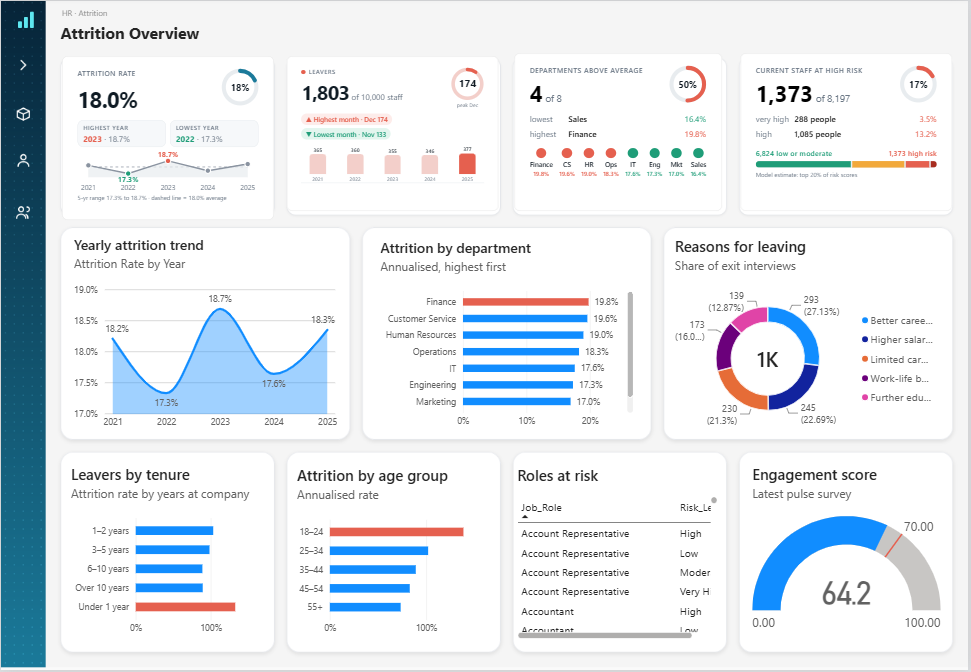

The page's visual inventory and layout, read from the dashboard file:
{"tool":"powerbi","page":{"name":"Overview","canvas":[1300,900],"ordinal":0},"visuals":[{"type":"clusteredBarChart","title":"Attrition by department","fields":{"Category":["Employee Data.Department"],"Y":["All Measures.Attrition Rate"]},"box":[493.9,305,371.9,289.2],"z":0},{"type":"gauge","title":"Engagement score","fields":{"Y":["All Measures.Avg Engagement"]},"box":[993.7,608,285.3,263.7],"z":1000},{"type":"tableEx","title":"Roles at risk","fields":{"Values":["Employee Data.Job_Role","Employee_Scores.Risk_Level"]},"box":[678.9,610,301.1,263.7],"z":2000},{"type":"clusteredBarChart","title":"Attrition by age group","fields":{"Category":["Employee Data.Age Group"],"Y":["All Measures.Attrition Rate"]},"box":[381.7,610,285.3,261.7],"z":3000},{"type":"clusteredBarChart","title":"Leavers by tenure","fields":{"Category":["Employee Data.Tenure Band"],"Y":["All Measures.Attrition Rate"]},"box":[78.7,608,285.3,263.7],"z":4000},{"type":"donutChart","title":"Reasons for leaving","fields":{"Category":["Employee Data.Reason_For_Leaving"],"Y":["All Measures.Attrition Counts"]},"box":[889.4,301.1,389.6,293.2],"z":5000},{"type":"areaChart","title":"Yearly attrition trend","fields":{"Category":["Calendar Table.Year"],"Y":["All Measures.Attrition Rate"]},"box":[82.6,299.1,385.7,295.2],"z":6000},{"type":"htmlContent443BE3AD55E043BF878BED274D3A6865","fields":{"content":["All Measures.KPI High Risk HTML"]},"box":[993.7,70.8,285.3,212.5],"z":9000},{"type":"htmlContent443BE3AD55E043BF878BED274D3A6865","fields":{"content":["All Measures.KPI Departments HTML"]},"box":[690.7,70.8,279.4,212.5],"z":10000},{"type":"htmlContent443BE3AD55E043BF878BED274D3A6865","fields":{"content":["All Measures.KPI Leavers HTML"]},"box":[383.7,74.8,285.3,208.6],"z":11000},{"type":"htmlContent443BE3AD55E043BF878BED274D3A6865","fields":{"content":["All Measures.KPI Attrition HTML"]},"box":[82.6,74.8,285.3,220.4],"z":12000},{"type":"textbox","box":[80.7,27.5,194.8,31.5],"z":13000},{"type":"textbox","box":[82.6,5.9,220,22],"z":15000},{"type":"image","box":[17.7,271.5,24,24],"z":16000},{"type":"image","box":[17.7,202.7,24,24],"z":17000},{"type":"image","box":[17.7,139.7,24,24],"z":18000},{"type":"image","box":[18,74,24,24],"z":19000},{"type":"actionButton","box":[10,70,40,32],"z":20000}]}

Visuals, with their boxes on the page's 1300x900 design canvas (x1, y1, x2, y2). These are canvas units, not pixel positions in the 971x672 screenshot, which may show the page scaled, cropped or inside an application window:
"Attrition by department" clusteredBarChart: (left=494, top=305, right=866, bottom=594)
"Engagement score" gauge: (left=994, top=608, right=1279, bottom=872)
"Roles at risk" tableEx: (left=679, top=610, right=980, bottom=874)
"Attrition by age group" clusteredBarChart: (left=382, top=610, right=667, bottom=872)
"Leavers by tenure" clusteredBarChart: (left=79, top=608, right=364, bottom=872)
"Reasons for leaving" donutChart: (left=889, top=301, right=1279, bottom=594)
"Yearly attrition trend" areaChart: (left=83, top=299, right=468, bottom=594)
htmlContent443BE3AD55E043BF878BED274D3A6865 - All Measures.KPI High Risk HTML: (left=994, top=71, right=1279, bottom=283)
htmlContent443BE3AD55E043BF878BED274D3A6865 - All Measures.KPI Departments HTML: (left=691, top=71, right=970, bottom=283)
htmlContent443BE3AD55E043BF878BED274D3A6865 - All Measures.KPI Leavers HTML: (left=384, top=75, right=669, bottom=283)
htmlContent443BE3AD55E043BF878BED274D3A6865 - All Measures.KPI Attrition HTML: (left=83, top=75, right=368, bottom=295)
textbox: (left=81, top=28, right=276, bottom=59)
textbox: (left=83, top=6, right=303, bottom=28)
image: (left=18, top=272, right=42, bottom=296)
image: (left=18, top=203, right=42, bottom=227)
image: (left=18, top=140, right=42, bottom=164)
image: (left=18, top=74, right=42, bottom=98)
actionButton: (left=10, top=70, right=50, bottom=102)
